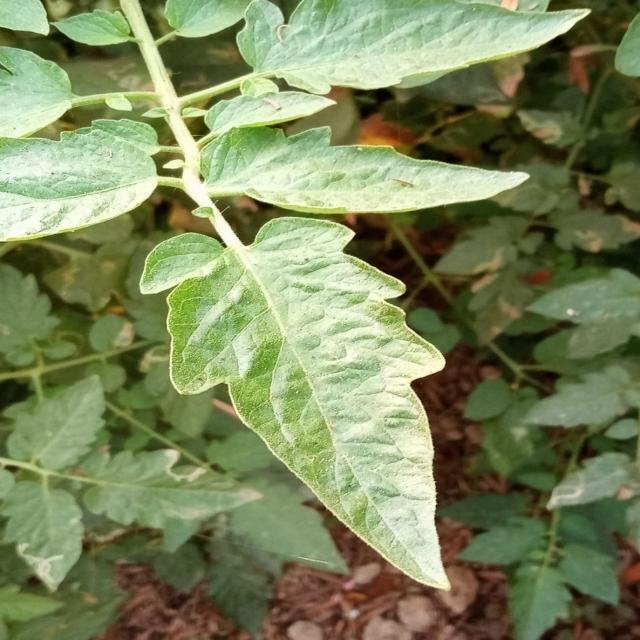Healthy: (107, 152, 581, 598), (237, 0, 588, 94), (201, 124, 528, 216)
